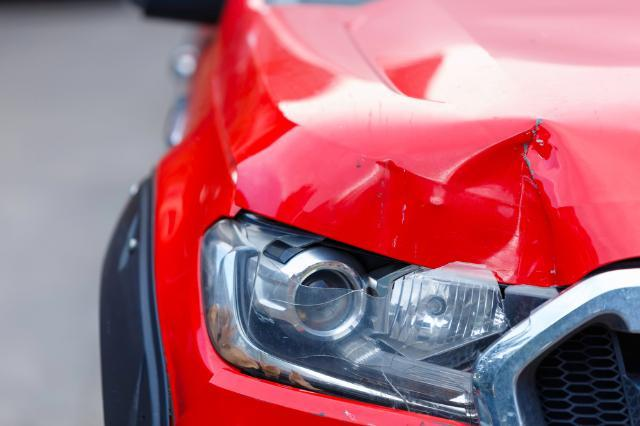dent: (289, 123, 583, 287)
lamp broken: (198, 210, 559, 426)
